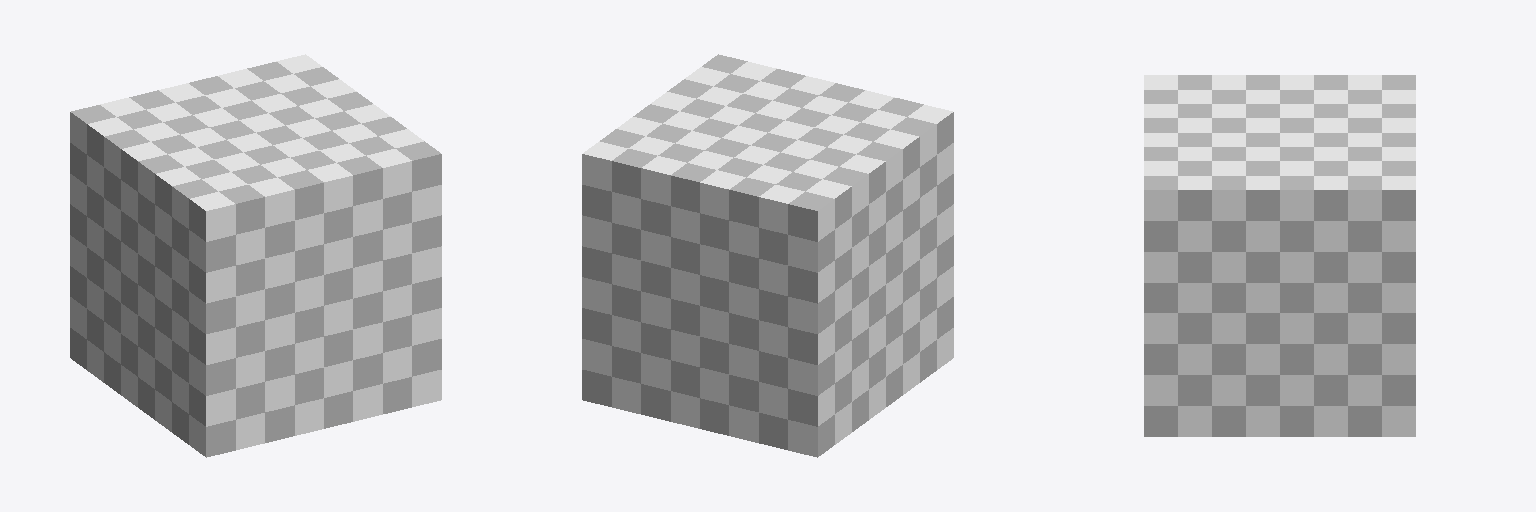
3 views of the same model, side by side, from view 1: azimuth 30°, elevation 25°; view 2: azimuth 150°, elevation 25°; view 3: azimuth 270°, elevation 25° (orthographic).
Visible parts, largest first — view 1: Cube; view 2: Cube; view 3: Cube.
Boxes of the visible parts, x1=… form: Cube: x1=70, y1=54, x2=441, y2=457; Cube: x1=582, y1=54, x2=953, y2=457; Cube: x1=1144, y1=75, x2=1415, y2=436.
Size of the model in its own units: 2 by 2 by 2.
Materials: 1 (1 with a texture image).